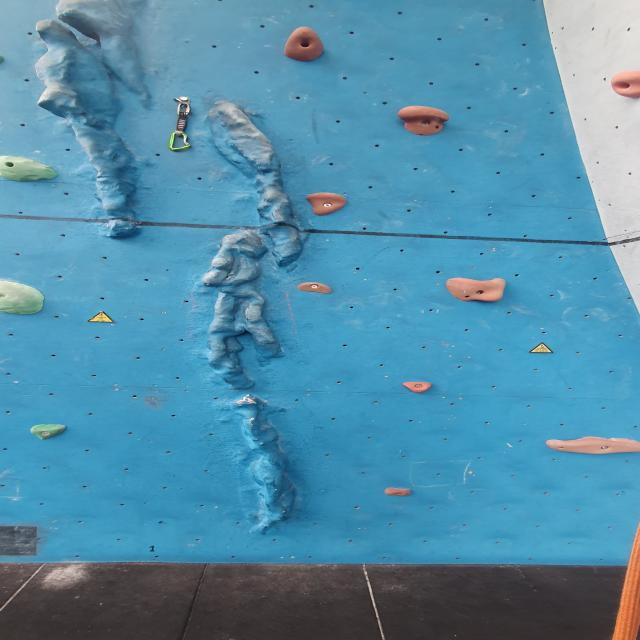Crimp: (28, 423, 73, 441), (294, 280, 334, 296), (400, 380, 434, 394), (381, 488, 415, 500)
Jug: (542, 434, 638, 456), (444, 276, 509, 304), (397, 104, 453, 135), (282, 26, 327, 63), (304, 190, 348, 216), (608, 70, 640, 99)
Sloper: (0, 155, 61, 186), (0, 280, 48, 317)
